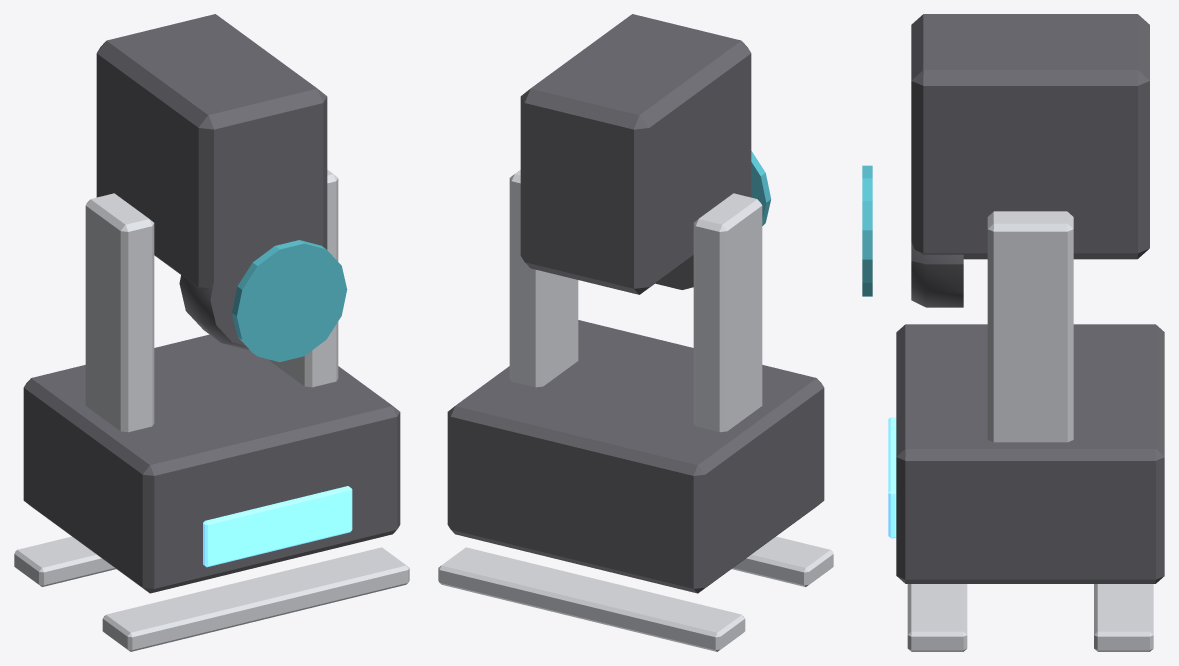
File: dj-moving-head.glb
3 renders of one model, left to right at view 1: azimuth 30°, elevation 25°; view 2: azimuth 150°, elevation 25°; view 3: azimuth 270°, elevation 25°, orthographic. The views are drawn at different scales.
Visible parts, largest first — view 1: moving-head-light, head, yoke, lens; view 2: moving-head-light, head, yoke, lens; view 3: moving-head-light, head, yoke, lens.
Part boxes in pixels (x1,y1,x2,y2): moving-head-light: (14,334,409,651); head: (96,14,327,349); yoke: (85,170,338,432); lens: (232,240,347,362); moving-head-light: (438,320,833,651); head: (520,14,751,294); yoke: (509,170,762,432); lens: (751,151,771,225); moving-head-light: (888,324,1164,651); head: (911,14,1149,307); yoke: (987,211,1073,442); lens: (862,165,872,296).
Size of the model in its own units: 0.46 by 0.798 by 0.406.
